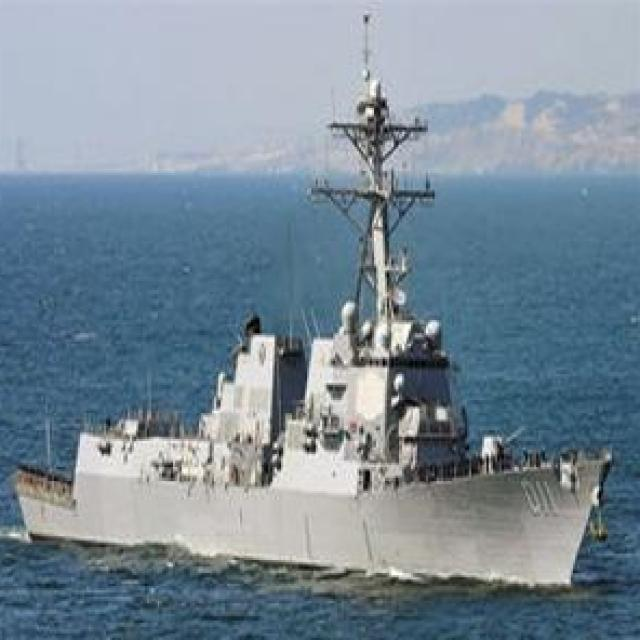navalvessels: (8, 95, 614, 573)
